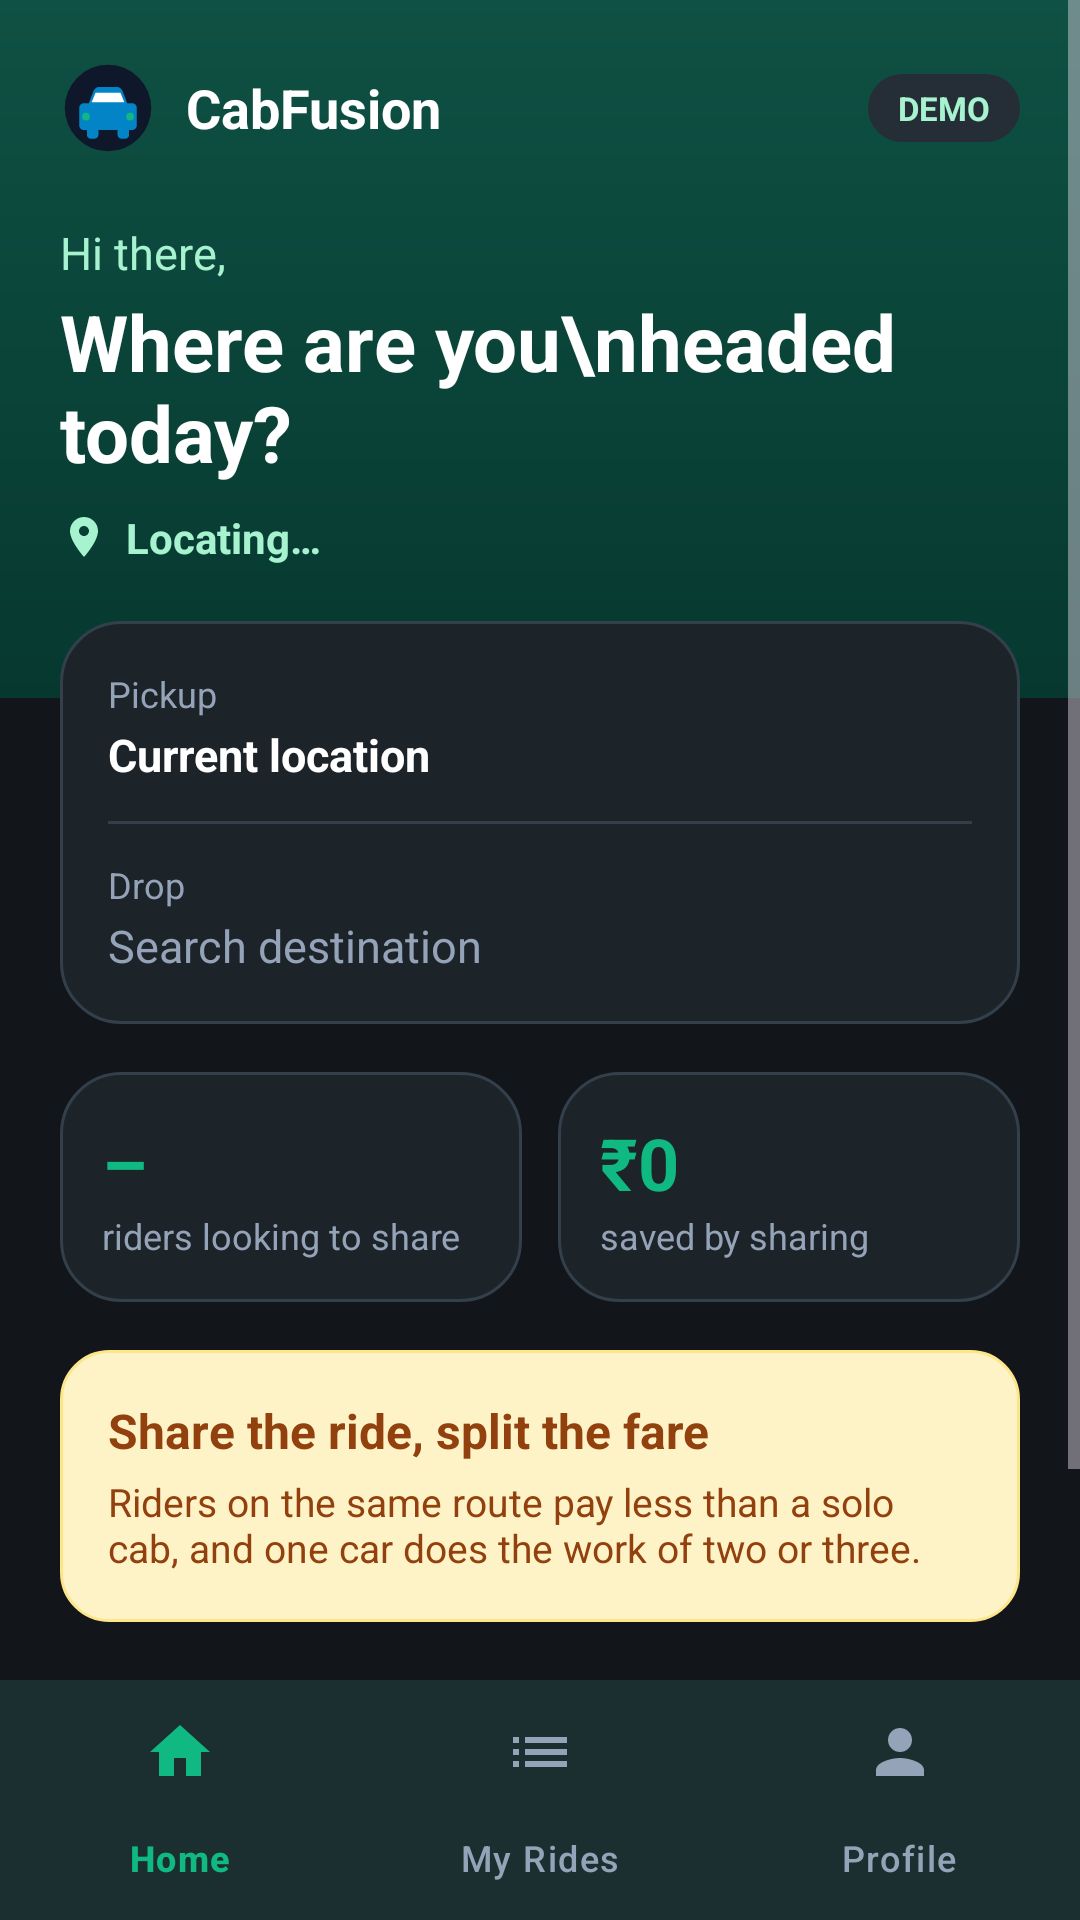

Icons on this 1080w x 1920h Android screen, each with the point to tap as (x,y):
pin: (84,537)
